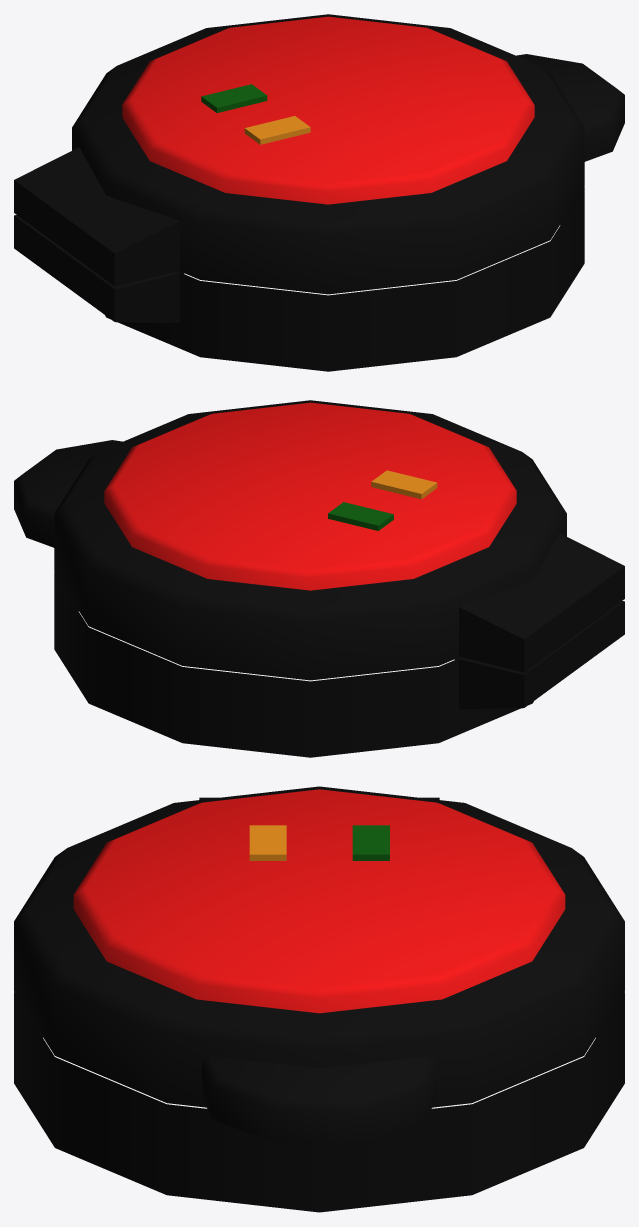
The model's file is may hamburger.FBX.
3 views of the same model, one above another, from view 1: azimuth 30°, elevation 25°; view 2: azimuth 150°, elevation 25°; view 3: azimuth 270°, elevation 25° (orthographic). The views are drawn at different scales.
Visible parts, largest first — view 1: may hamburger; view 2: may hamburger; view 3: may hamburger.
Boxes of the visible parts, x1,y1,x2,y2 form: may hamburger: (14, 14, 624, 371); may hamburger: (14, 400, 624, 757); may hamburger: (14, 786, 624, 1212).
Size of the model in its own units: 2.61 by 0.7782 by 2.14.
